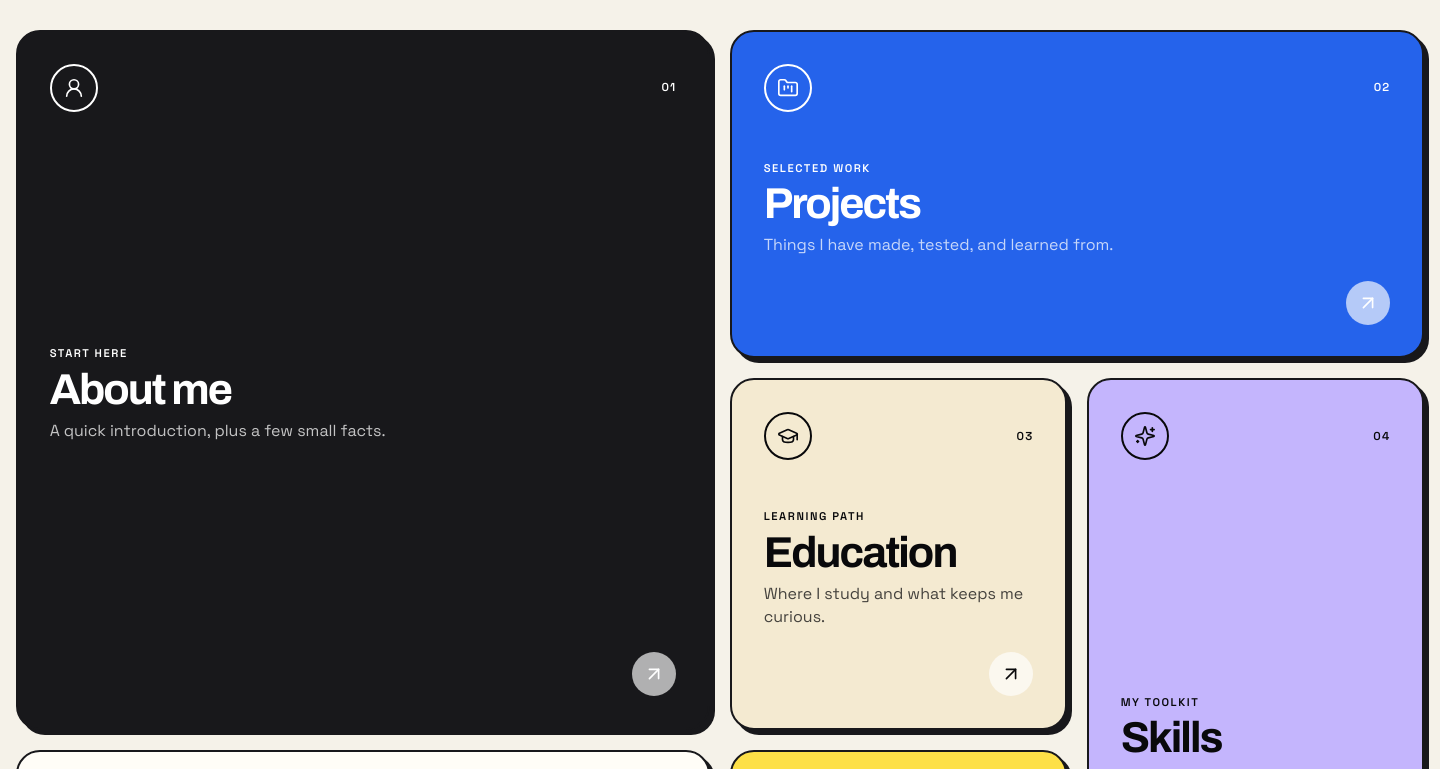
Test: personal explorer › opens a card as an accessible dialog and closes with Escape
This screenshot has width=1440, height=769.
(page scrolled)
Click the button with aria-label "open about me" at (667, 380), box x1=18 y1=32 x2=708 y2=728
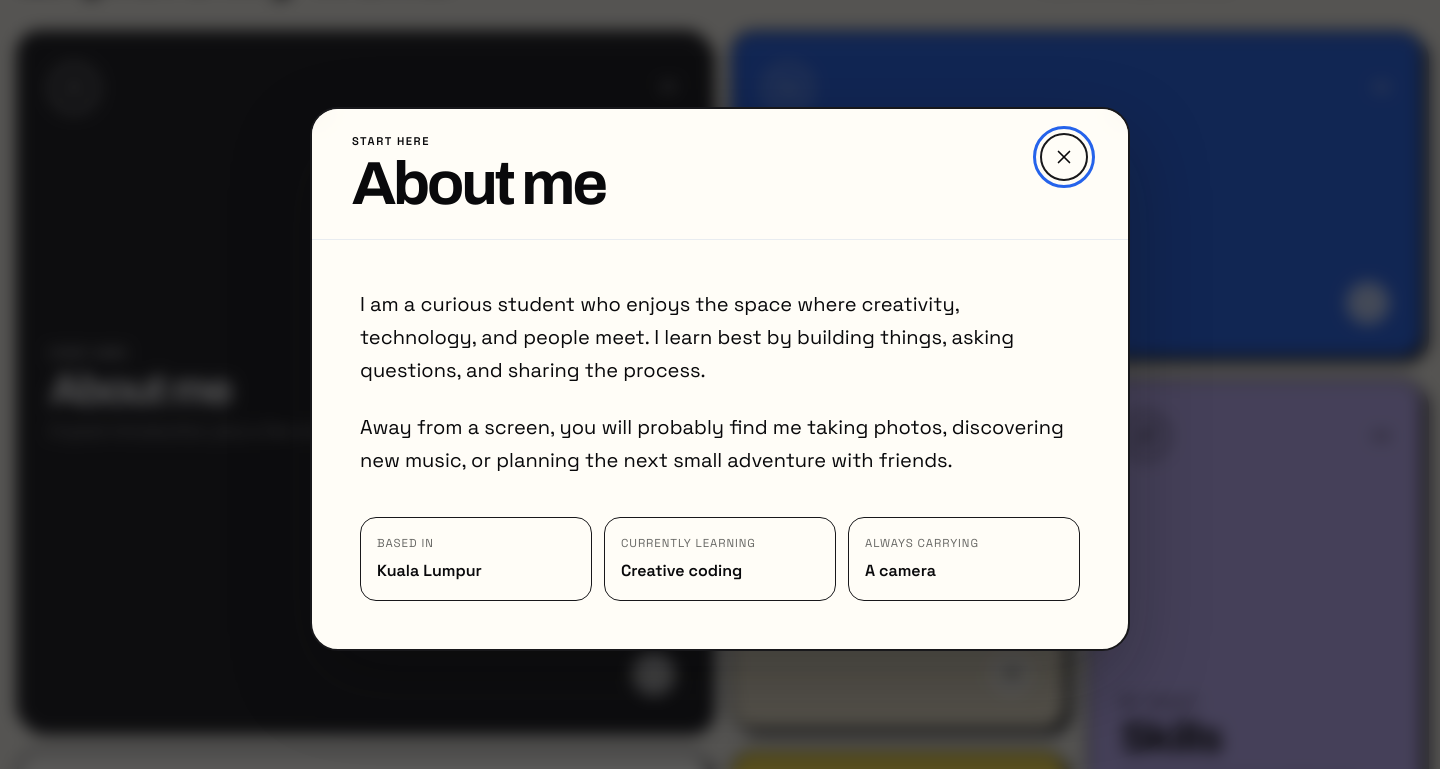
Expected: the dialog "About me" is shown, x1=310 y1=107 x2=1130 y2=651
Press Escape
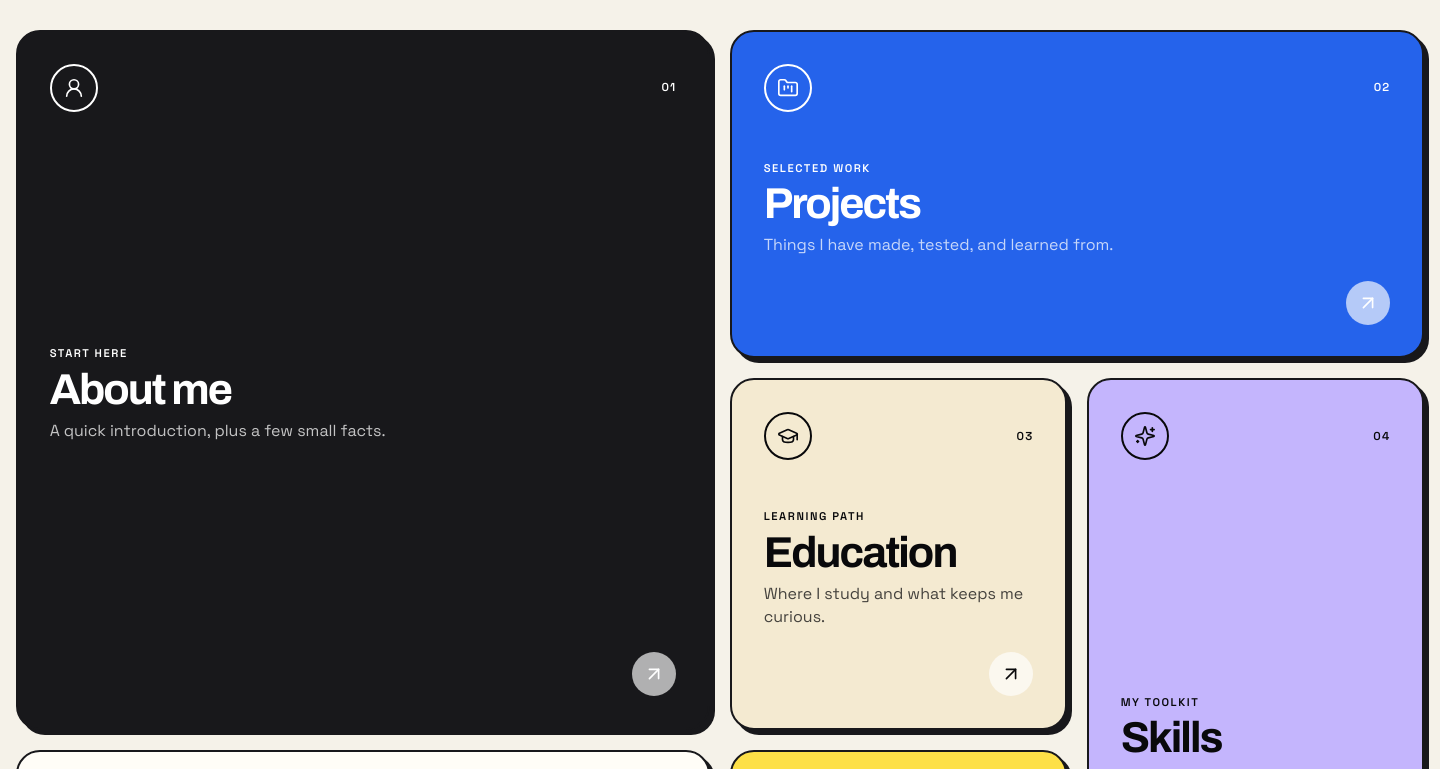
Expected: the dialog is gone
